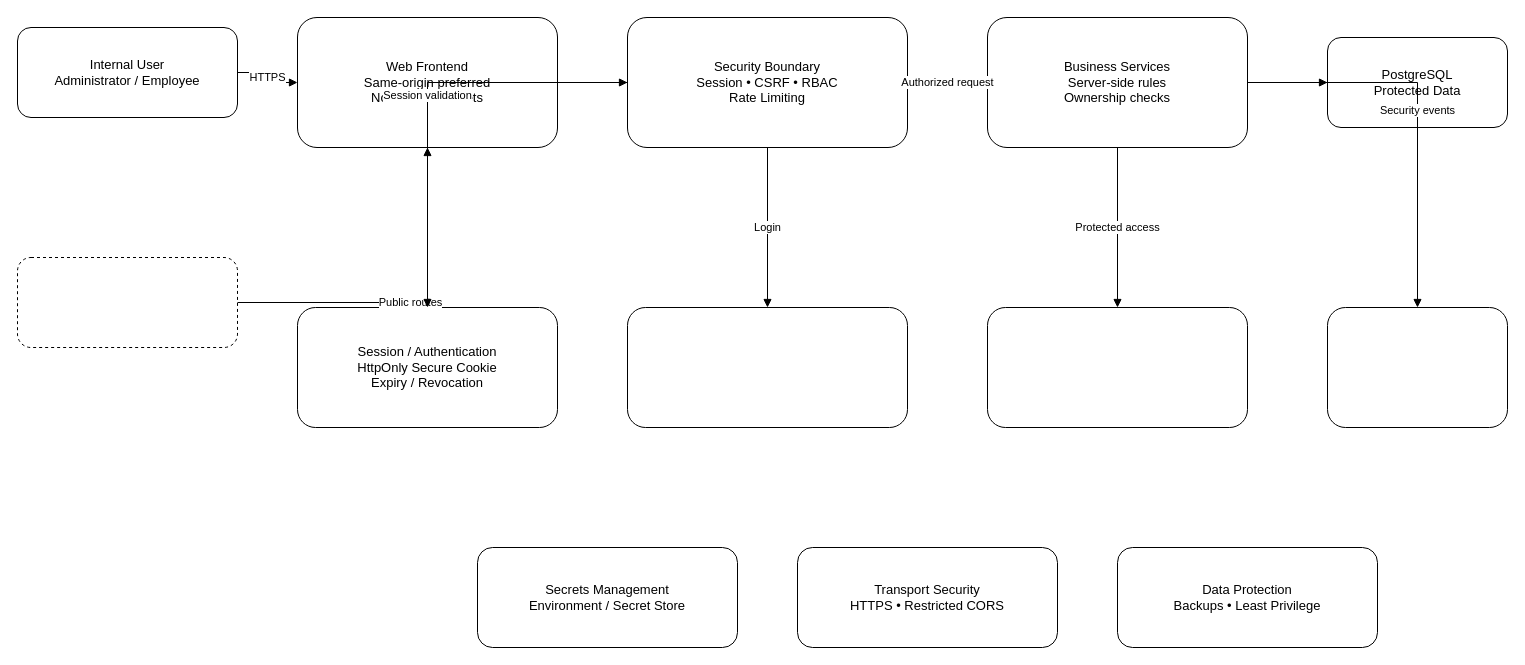
Some shapes in this 1525 by 665 pixel diagram are drawn without their labels. The shapes that lost their labels are listed below. From the top down, each one's centre as x and y in pixels, then its label:
At point 127,302: "Future Storefront Guest Customer".
At point 767,367: "Credential Protection Argon2id Brute-force Controls".
At point 1117,367: "Protected File Access Authorization • Validation".
At point 1417,367: "Security Logs Auth Events • Denials".
